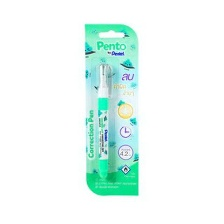book: (81, 21, 141, 197)
correction_fluid: (95, 61, 113, 181)
